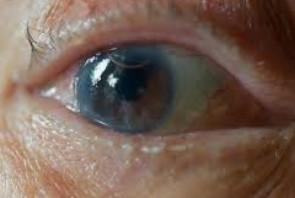eye: (77, 46, 178, 135)
